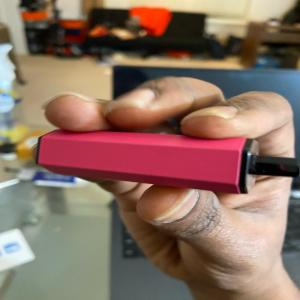Blume-E-Ciggirate: (30, 125, 300, 192)
